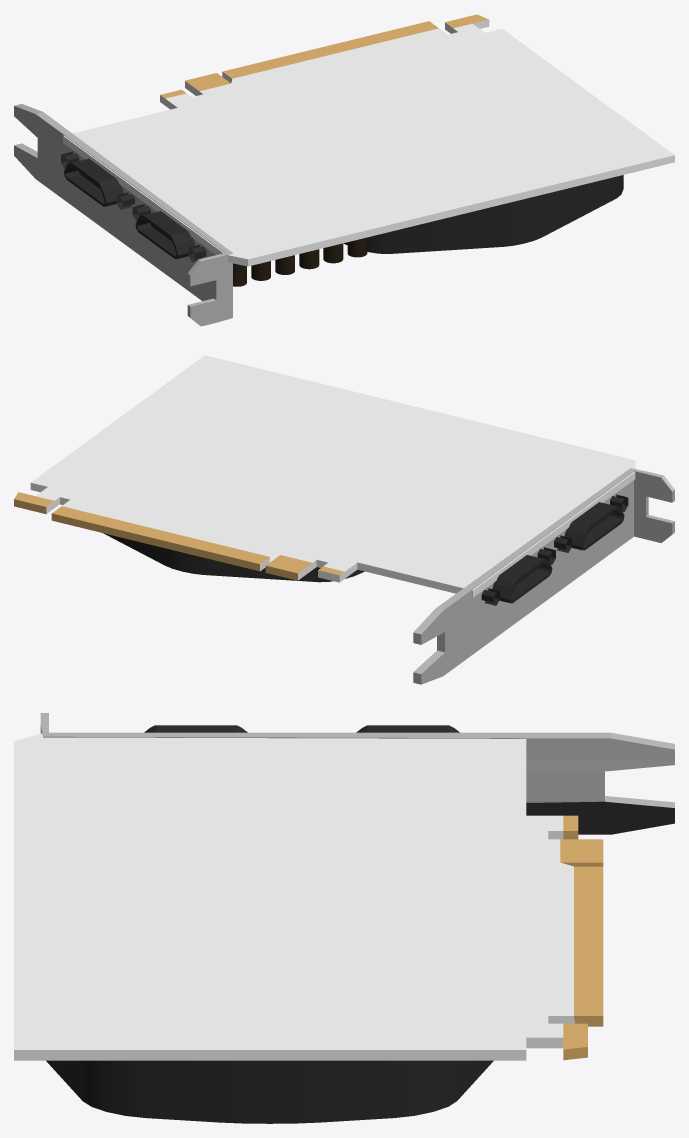
3 renders of one model, top to bottom at view 1: azimuth 30°, elevation 25°; view 2: azimuth 150°, elevation 25°; view 3: azimuth 270°, elevation 25°, orthographic. The views are drawn at different scales.
Parts seen in each view (by area): view 1: Cube012_4, Cube012_6, Cube012_8, Cube012_5, Cube012_2; view 2: Cube012_4, Cube012_8, Cube012_6, Cube012_5; view 3: Cube012_4, Cube012_6, Cube012_8, Cube012_5.
Boxes of the visible parts, left/top/right/bottom form: Cube012_4: left=63, top=19, right=674, bottom=266; Cube012_6: left=61, top=151, right=623, bottom=262; Cube012_8: left=14, top=104, right=232, bottom=326; Cube012_5: left=160, top=14, right=488, bottom=98; Cube012_2: left=233, top=237, right=367, bottom=286; Cube012_4: left=30, top=355, right=636, bottom=597; Cube012_8: left=413, top=468, right=674, bottom=684; Cube012_6: left=103, top=494, right=628, bottom=605; Cube012_5: left=14, top=492, right=344, bottom=580; Cube012_4: left=14, top=733, right=574, bottom=1060; Cube012_6: left=46, top=725, right=674, bottom=1123; Cube012_8: left=40, top=713, right=674, bottom=807; Cube012_5: left=560, top=815, right=603, bottom=1060.
Bounding box in the file's own units: 0.7788 × 0.1018 × 0.6326.
